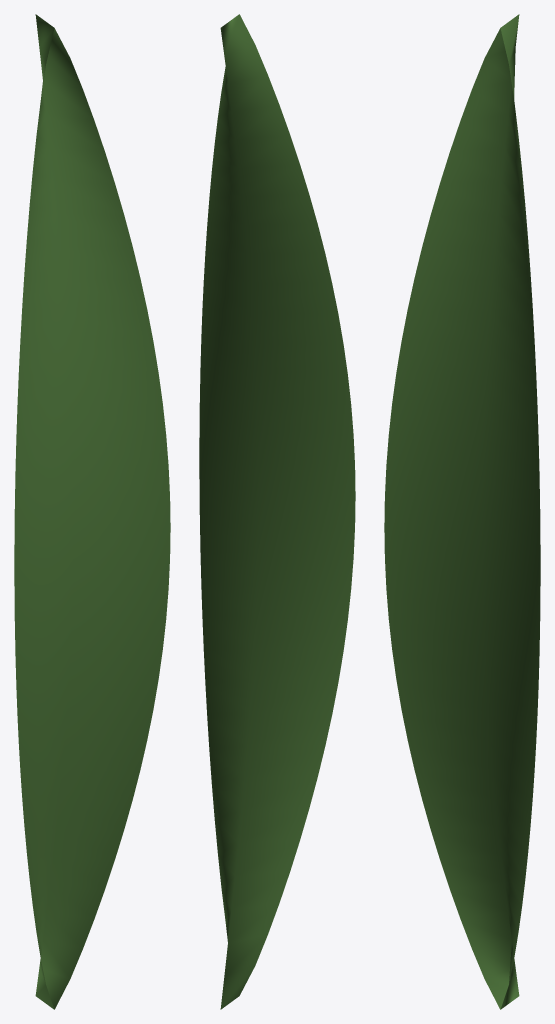
Rendered from leaf-narrow.glb.
The picture shows the model from 3 angles, left to right: view 1: azimuth 30°, elevation 25°; view 2: azimuth 150°, elevation 25°; view 3: azimuth 330°, elevation 25°; orthographic projection.
Visible parts, largest first — view 1: tint-surface; view 2: tint-surface; view 3: tint-surface.
Part boxes in pixels (x1,y1,x2,y2): tint-surface: [14, 14, 170, 1009]; tint-surface: [199, 14, 355, 1009]; tint-surface: [384, 14, 540, 1009].
Bounding box in the file's own units: 0.1664 × 1 × 0.105.
